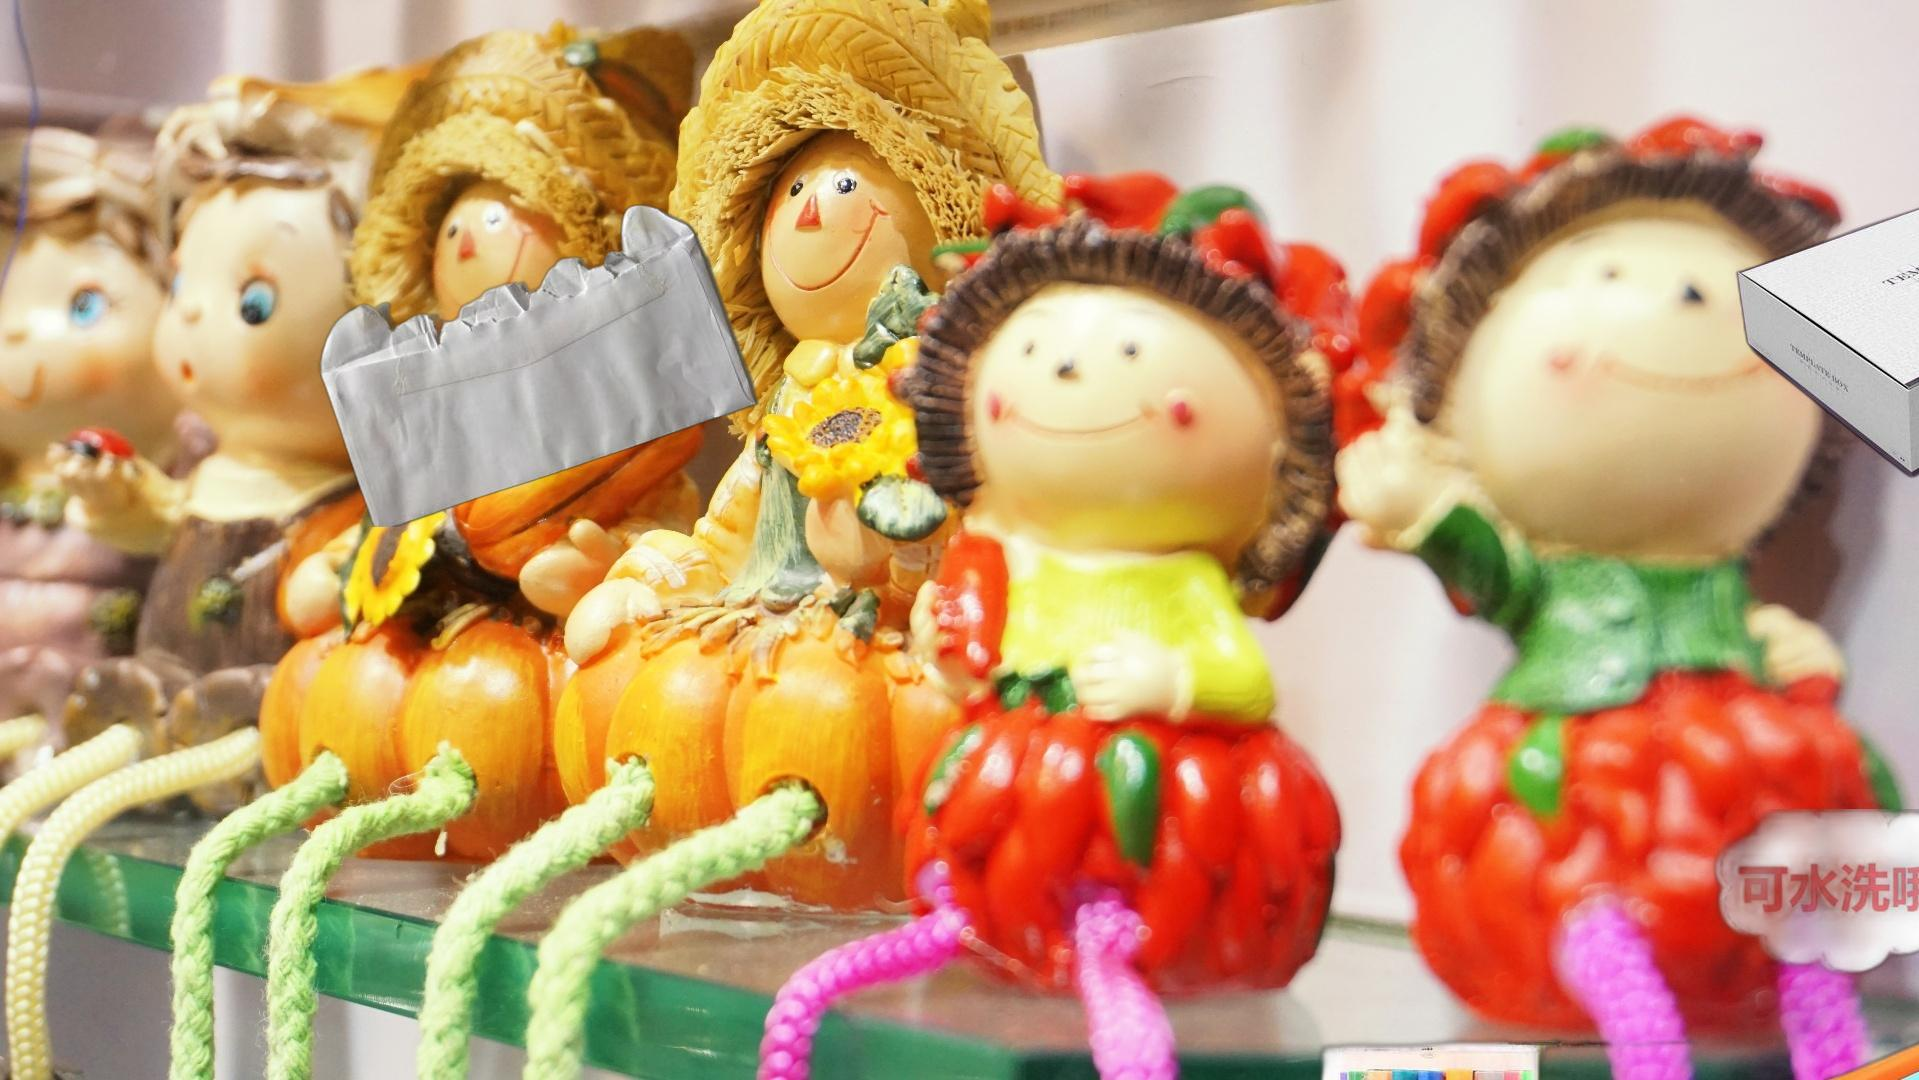paper: (318, 203, 762, 527)
penholder: (1303, 808, 1919, 1080)
trashbox-cardboard: (1732, 175, 1919, 480)
